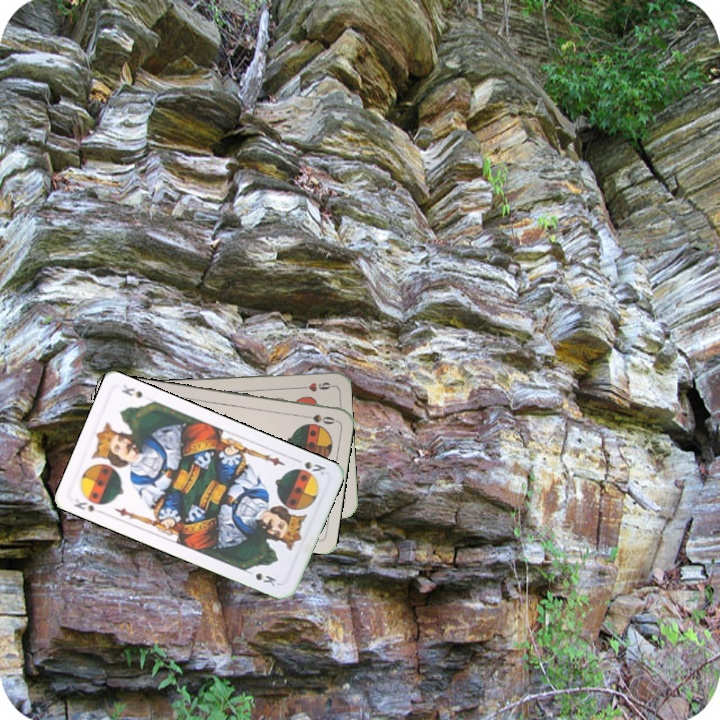H9: (295, 378, 335, 394)
SK: (300, 457, 328, 478), (70, 495, 98, 514)
SO: (298, 410, 338, 427)
